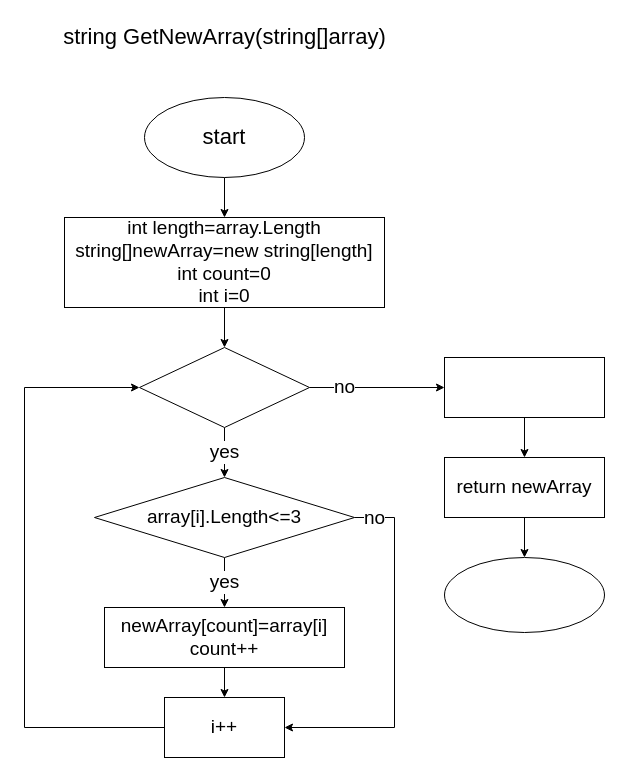
Some shapes in this 622 by 775 pixel diagram are drawn without their labels. The shapes that lost their labels are listed below. From the top down, each one's centre as x and y in pixels, then its label:
(x=224, y=387): i<length
(x=524, y=387): Array.Resize(ref newArray,count)
(x=524, y=594): end
